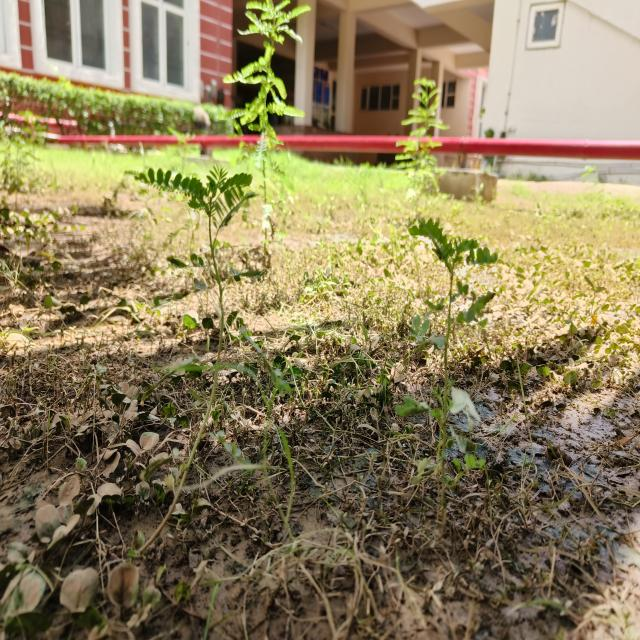weed: (402, 209, 504, 491), (130, 163, 262, 313)
